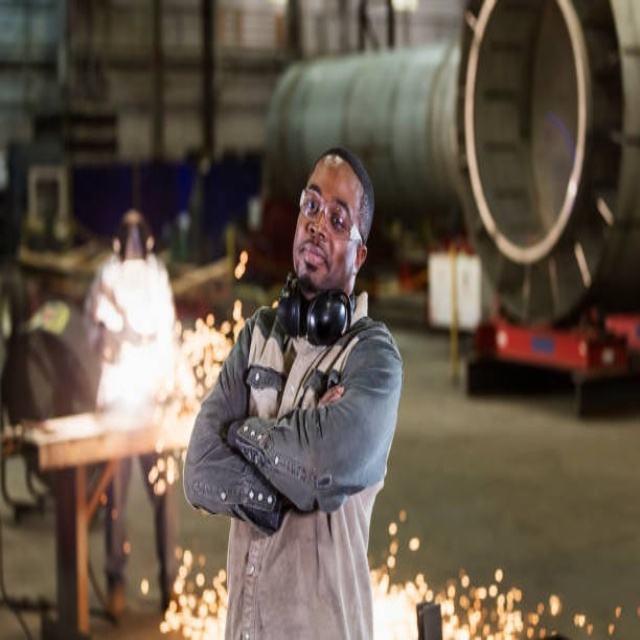Gafas: (299, 188, 363, 242)
Sin_mascara: (295, 243, 330, 277)
